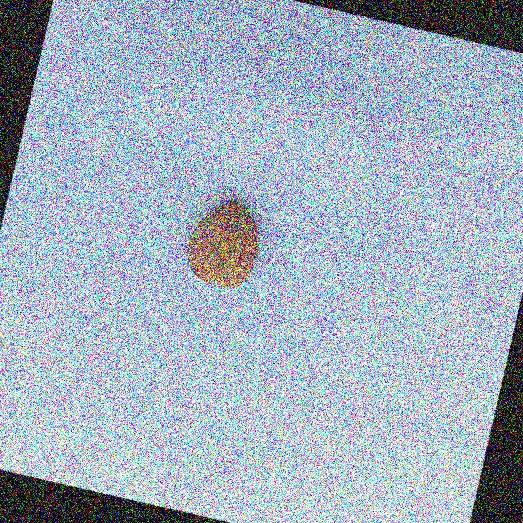grade1: (174, 185, 278, 301)
